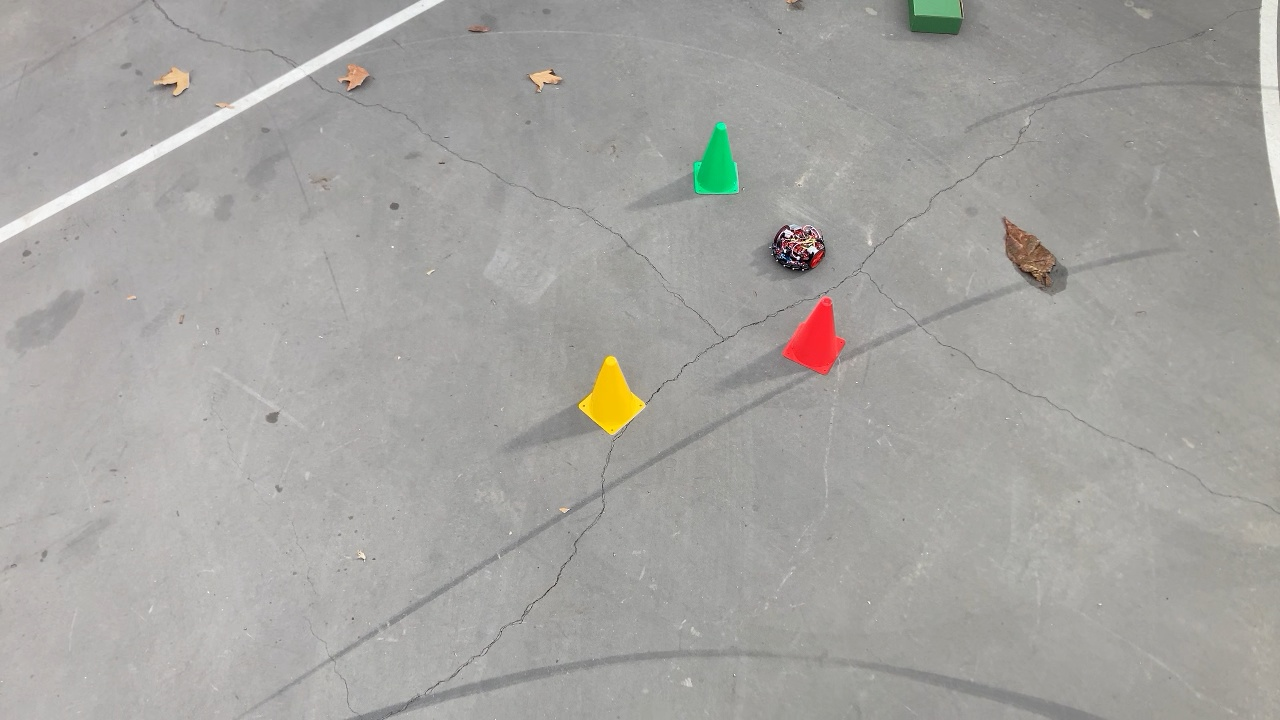green_cone: (689, 120, 742, 199)
red_cone: (781, 296, 849, 377)
robot: (768, 218, 829, 274)
yellow_cone: (576, 355, 650, 439)
